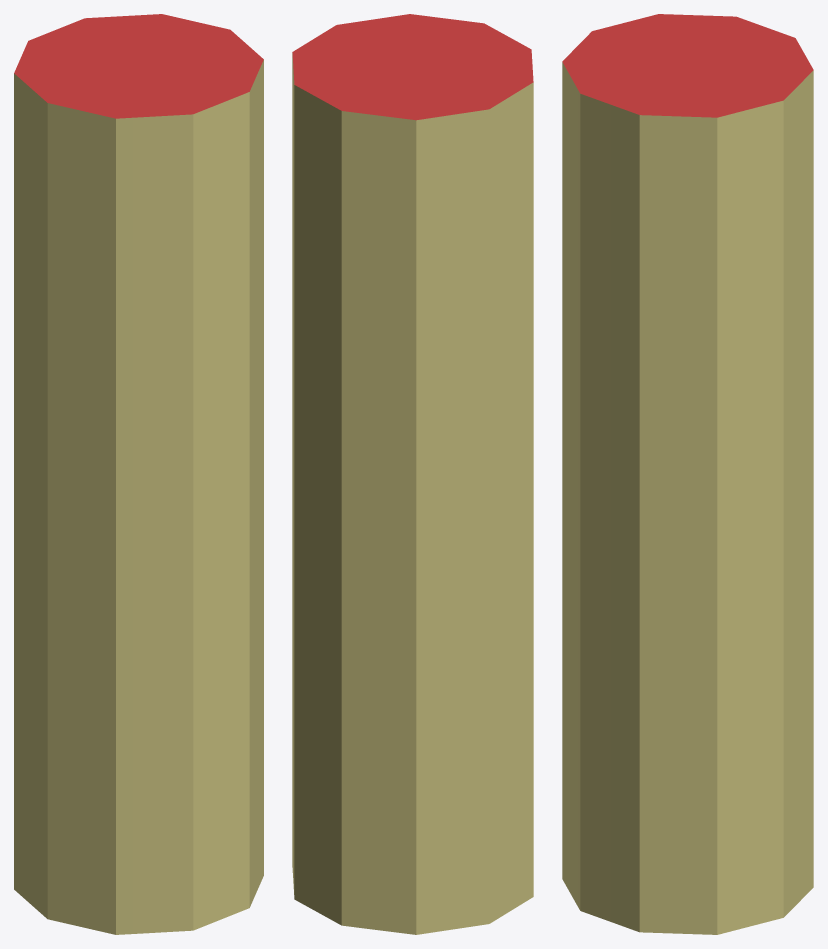
The picture shows the model from 3 angles, left to right: view 1: azimuth 30°, elevation 25°; view 2: azimuth 150°, elevation 25°; view 3: azimuth 270°, elevation 25°; orthographic projection.
Size of the model in its own units: 2.72 by 2.79 by 10.01.
